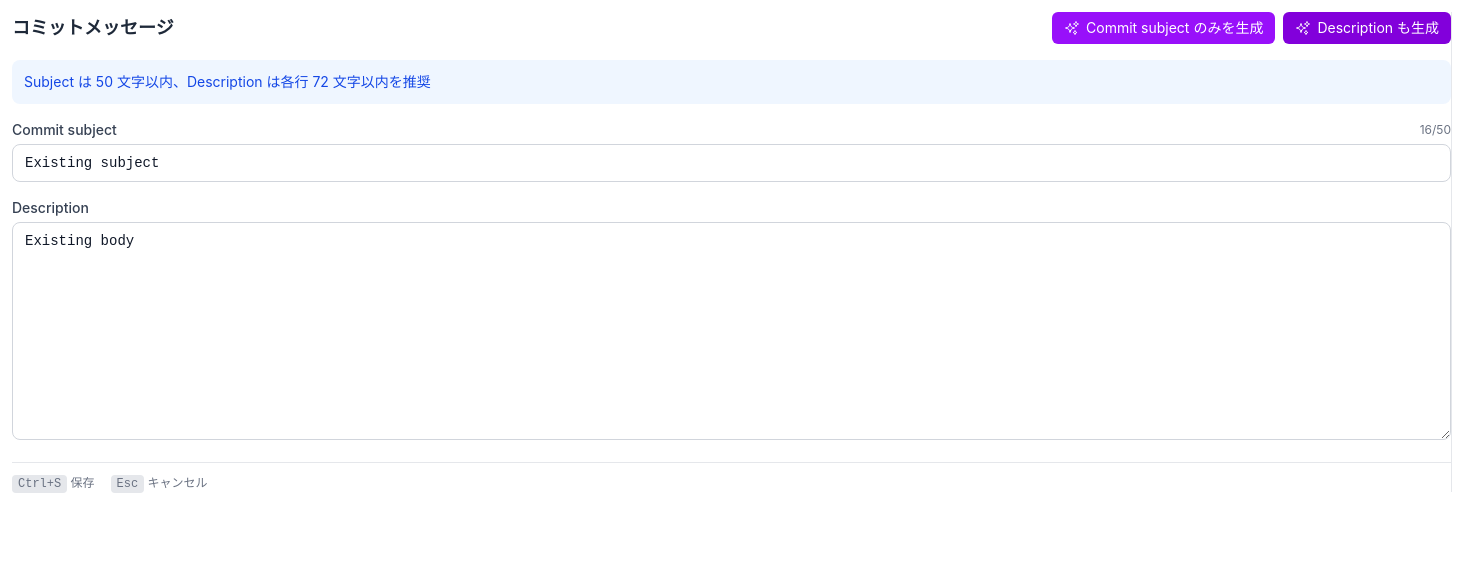
Test: CommitEditor › AI 生成（handleGenerateWithAI） › 生成エラー → エラーメッセージを表示し、既存の subject/body を保持する
Click the button "Commit subject のみを生成" at (1164, 28), box [1052, 12, 1275, 44]
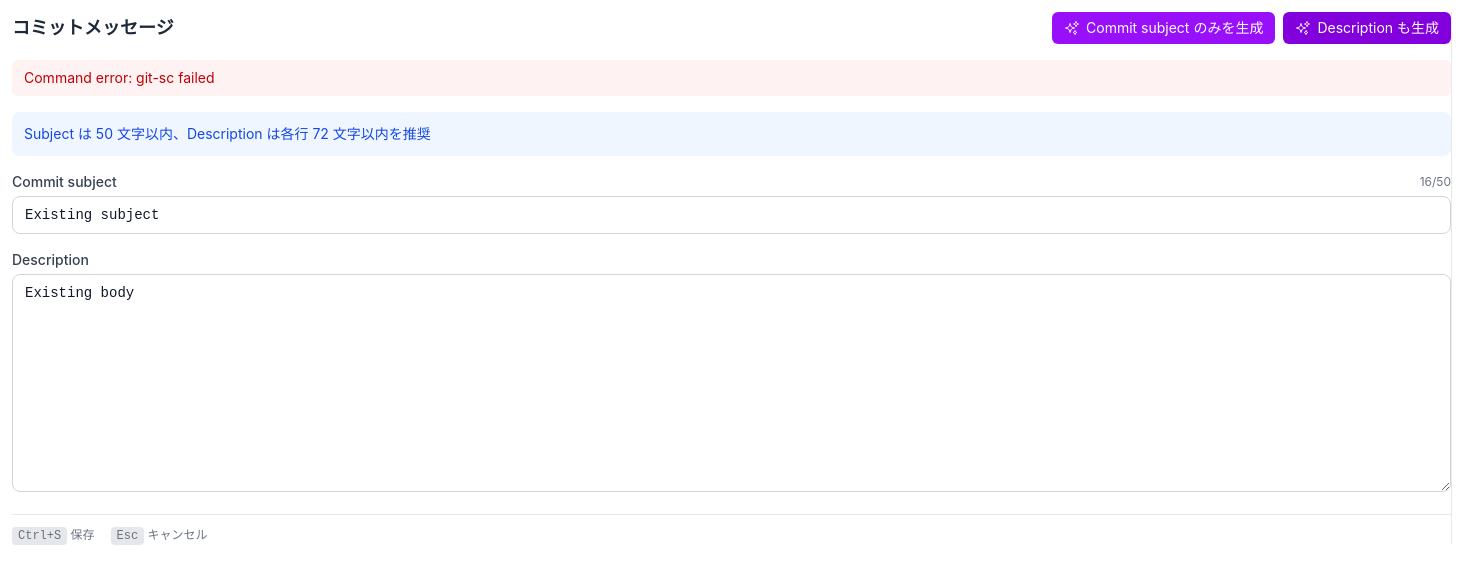
Now the text "Command error: git-sc failed" is shown, box [12, 60, 1451, 96]
